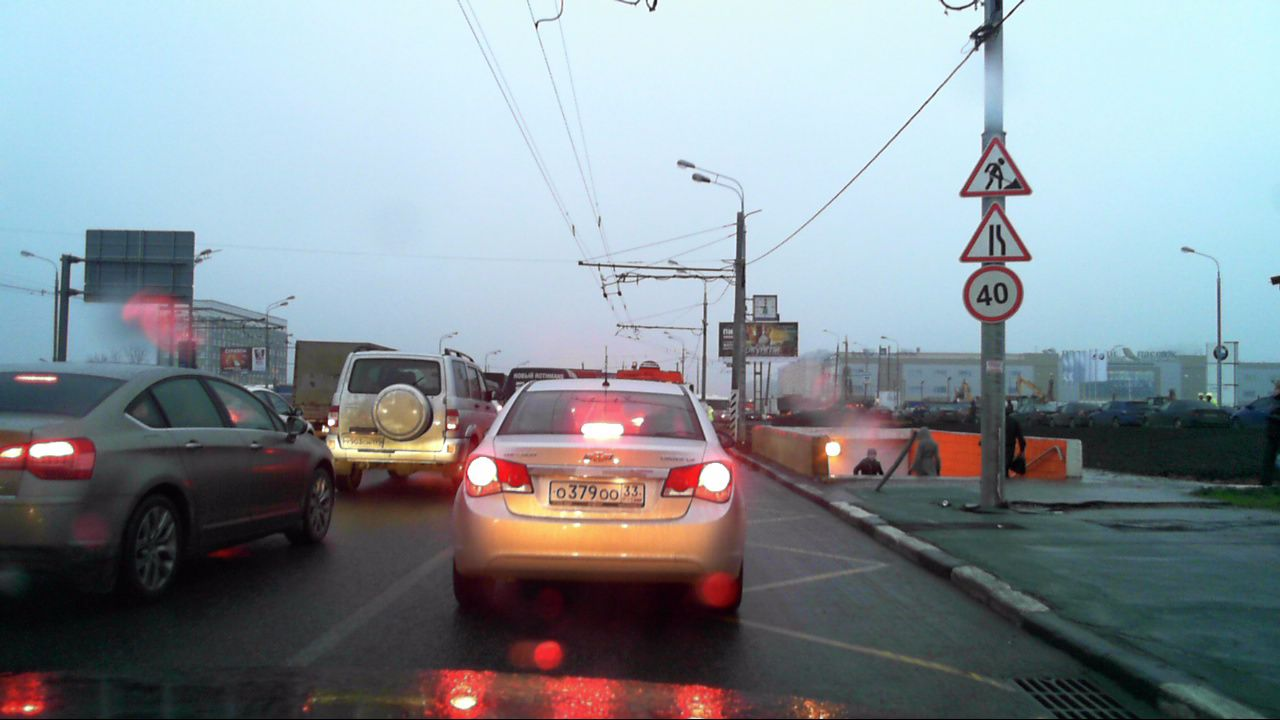speed_warning_40: (964, 264, 1025, 317)
